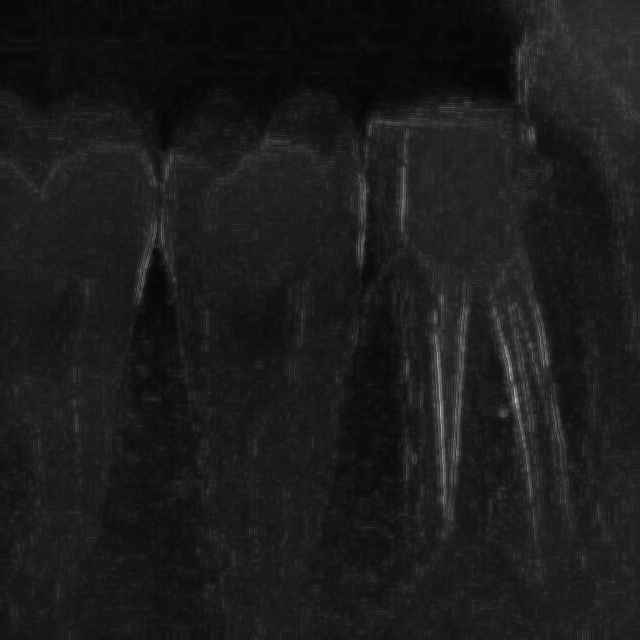Class 0- No endodontic treatment: (328, 79, 636, 629)
cavity: (138, 71, 373, 640)
